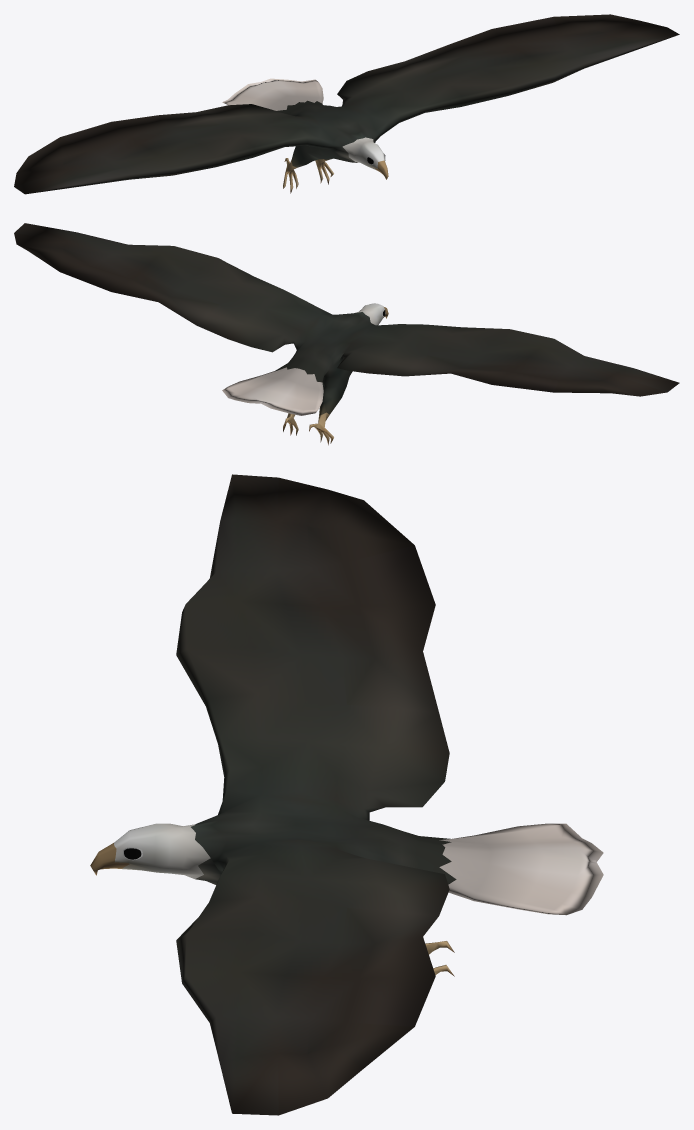
File: Birds_Eagle.fbx
3 renders of one model, top to bottom at view 1: azimuth 30°, elevation 25°; view 2: azimuth 150°, elevation 25°; view 3: azimuth 270°, elevation 25°, orthographic. The views are drawn at different scales.
Parts seen in each view (by area): view 1: base; view 2: base; view 3: base.
Boxes of the visible parts, <box> form: base: <box>14,14,679,194</box>; base: <box>14,223,679,445</box>; base: <box>90,474,603,1115</box>.
Bounding box in the file's own units: 275 × 44.88 × 93.47.
